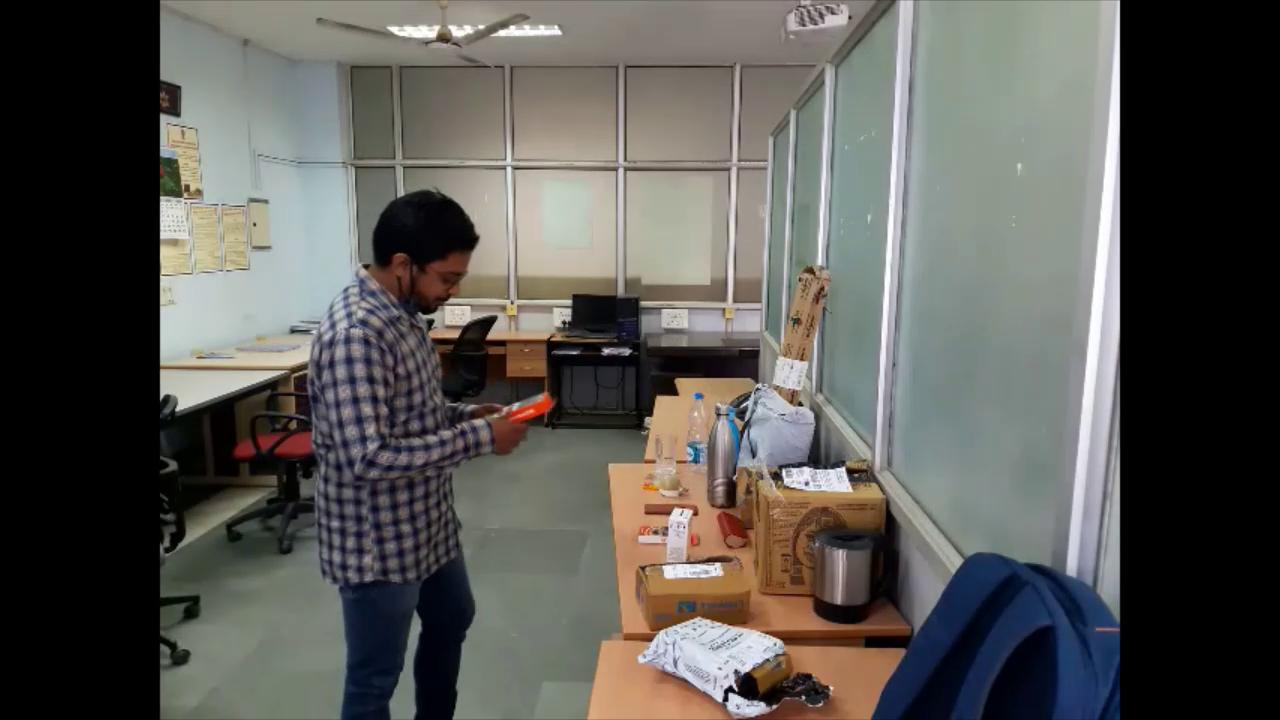Normal: (305, 189, 558, 715)
